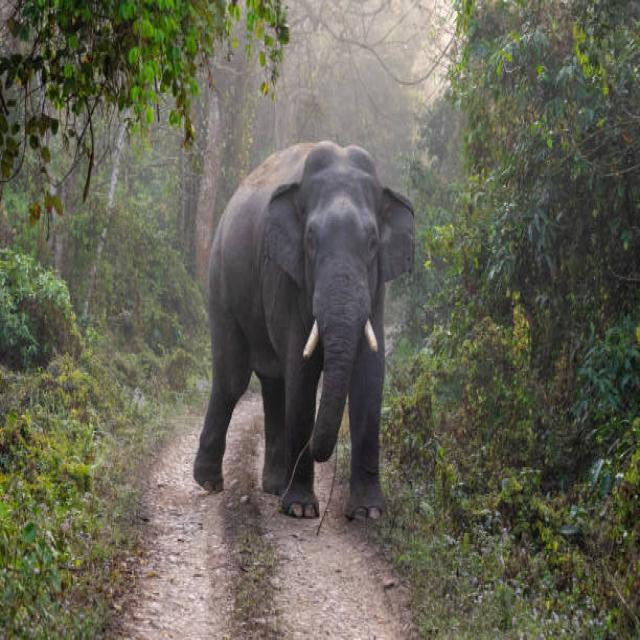Elephant: (195, 132, 426, 538)
